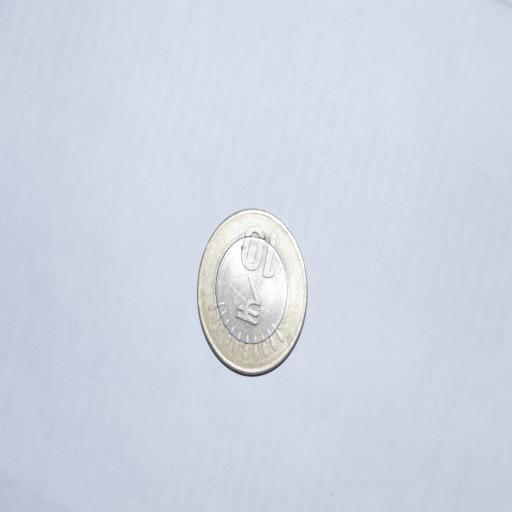rupee10: (197, 208, 309, 375)
